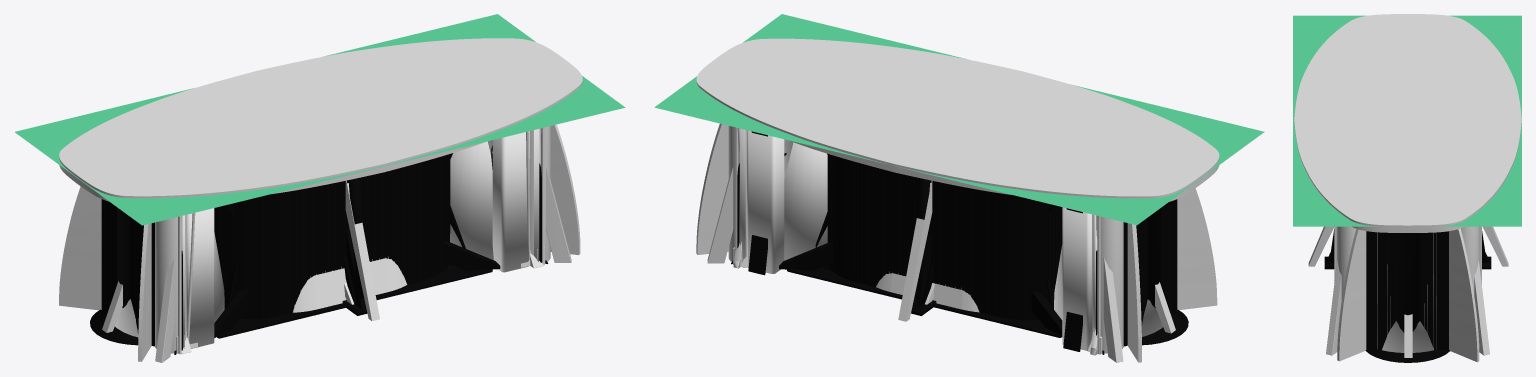
Rendered from DanishOval.glb.
3 renders of one model, left to right at view 1: azimuth 30°, elevation 25°; view 2: azimuth 150°, elevation 25°; view 3: azimuth 270°, elevation 25°, orthographic. The views are drawn at different scales.
Visible parts, largest first — view 1: Danish Oval _ Table top, Danish Oval _Fluted - WOOD_240, Rectangle003, Danish Oval _Pilaar - WOOD_240, Danish Oval _Schuin 2.5 - WOOD_240, Danish Oval _Conisch_240.001, Danish Oval _Pillars - WOOD_240, Danish Oval _Double fluted - WOOD_240.001, Danish Oval _Column in middle - WOOD_240, Danish Oval _Diagonal Pole_240, Danish Oval _Flat Dining V_240.002, Danish Oval _Klassiek Midden - WOOD_240 (+8 smaller); view 2: Danish Oval _ Table top, Danish Oval _Fluted - WOOD_240, Rectangle003, Danish Oval _Pilaar - WOOD_240, Danish Oval _Schuin 2.5 - WOOD_240, Danish Oval _Conisch_240.001, Danish Oval _Double fluted - WOOD_240.001, Danish Oval _Pillars - WOOD_240, Danish Oval _Diagonal Pole_240, Danish Oval _Klassiek Midden - WOOD_240, Danish Oval _Kolom Rod_240.001, Danish Oval _Flat Dining V_240.002 (+6 smaller); view 3: Danish Oval _ Table top, Rectangle003, Danish Oval _Double fluted - WOOD_240.001, Danish Oval _Schuin 2.5 - WOOD_240, Danish Oval _Kolom Rod_240.001, Danish Oval _Diagonal Pole_240, Danish Oval _Pillars - WOOD_240, Danish Oval _Conisch_240.001, Danish Oval _Klassiek Midden - WOOD_240, Danish Oval _Walrus_240, Danish Oval _Tapse Spin_240.
Boxes of the visible parts, x1,y1,x2,y2 form: Danish Oval _ Table top: (59, 38, 582, 201); Danish Oval _Fluted - WOOD_240: (214, 154, 450, 319); Rectangle003: (15, 14, 625, 225); Danish Oval _Pilaar - WOOD_240: (186, 131, 529, 348); Danish Oval _Schuin 2.5 - WOOD_240: (59, 124, 580, 361); Danish Oval _Conisch_240.001: (115, 141, 493, 337); Danish Oval _Pillars - WOOD_240: (155, 126, 550, 353); Danish Oval _Double fluted - WOOD_240.001: (101, 199, 154, 346); Danish Oval _Column in middle - WOOD_240: (293, 256, 407, 312); Danish Oval _Diagonal Pole_240: (155, 167, 571, 362); Danish Oval _Flat Dining V_240.002: (217, 153, 492, 338); Danish Oval _Klassiek Midden - WOOD_240: (102, 180, 379, 332); Danish Oval _ Table top: (696, 38, 1219, 201); Danish Oval _Fluted - WOOD_240: (827, 154, 1062, 320); Rectangle003: (654, 14, 1264, 225); Danish Oval _Pilaar - WOOD_240: (747, 130, 1092, 350); Danish Oval _Schuin 2.5 - WOOD_240: (696, 123, 1217, 362); Danish Oval _Conisch_240.001: (784, 142, 1162, 336); Danish Oval _Double fluted - WOOD_240.001: (1123, 199, 1177, 346); Danish Oval _Pillars - WOOD_240: (728, 126, 1123, 353); Danish Oval _Diagonal Pole_240: (707, 167, 1123, 362); Danish Oval _Klassiek Midden - WOOD_240: (898, 181, 1175, 333); Danish Oval _Kolom Rod_240.001: (1142, 208, 1188, 345); Danish Oval _Flat Dining V_240.002: (787, 153, 1061, 337); Danish Oval _ Table top: (1294, 14, 1521, 232); Rectangle003: (1293, 15, 1521, 226); Danish Oval _Double fluted - WOOD_240.001: (1366, 231, 1448, 349); Danish Oval _Schuin 2.5 - WOOD_240: (1337, 228, 1479, 362); Danish Oval _Kolom Rod_240.001: (1365, 233, 1449, 362); Danish Oval _Diagonal Pole_240: (1326, 260, 1489, 355); Danish Oval _Pillars - WOOD_240: (1336, 226, 1479, 299); Danish Oval _Conisch_240.001: (1377, 264, 1436, 352); Danish Oval _Klassiek Midden - WOOD_240: (1308, 226, 1508, 357); Danish Oval _Walrus_240: (1334, 226, 1481, 284); Danish Oval _Tapse Spin_240: (1329, 229, 1486, 262).
Size of the model in its own units: 2.41 by 0.7713 by 1.1.
